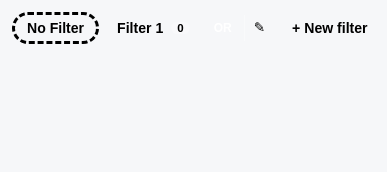
Test: secondary bar operator toggles › keeps No Filter disabled when changing an operator
Click the button "No Filter" at [56, 28], box [15, 15, 96, 41]
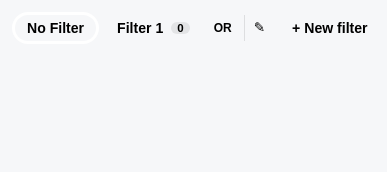
Click the button with class "ltb-tf-operator" at [223, 28], box [202, 15, 244, 41]
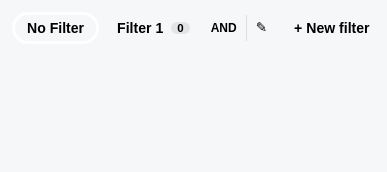
Expected: the button with class "ltb-tf-operator" reads "AND", [202, 15, 246, 41]
